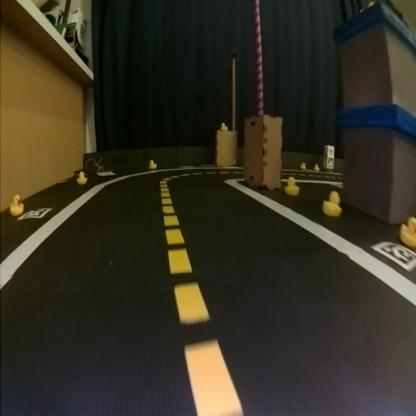Duckie: (324, 191, 344, 215), (400, 216, 414, 242), (286, 176, 301, 194), (11, 195, 24, 215), (78, 170, 87, 182), (150, 160, 157, 168), (221, 122, 227, 130)
QR code: (375, 241, 413, 267), (22, 207, 52, 219)
